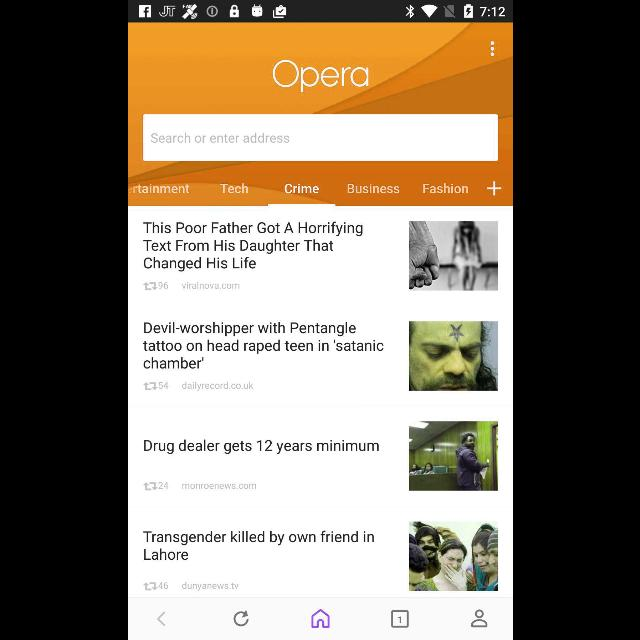icon: (310, 610, 330, 628), (470, 609, 488, 627), (233, 610, 249, 626), (486, 182, 502, 196), (157, 612, 166, 626), (143, 283, 157, 291), (143, 383, 157, 391), (143, 482, 157, 490), (143, 582, 157, 590), (490, 41, 494, 57)
image: (408, 422, 498, 491), (408, 322, 498, 391), (408, 522, 498, 590), (408, 222, 498, 290), (390, 610, 408, 628)
input: (142, 115, 498, 162)
text: (142, 321, 384, 369), (143, 222, 363, 272), (142, 531, 374, 561), (144, 440, 378, 454), (272, 59, 368, 92), (151, 133, 289, 143), (181, 381, 253, 391), (128, 184, 188, 194), (182, 482, 256, 490), (347, 183, 399, 194), (422, 183, 468, 194), (181, 282, 239, 290), (182, 582, 238, 590), (284, 184, 318, 194), (219, 183, 247, 194), (157, 582, 167, 590), (158, 382, 168, 390), (158, 282, 168, 290), (158, 482, 168, 488)
uppertaskbar: (128, 1, 512, 23)
